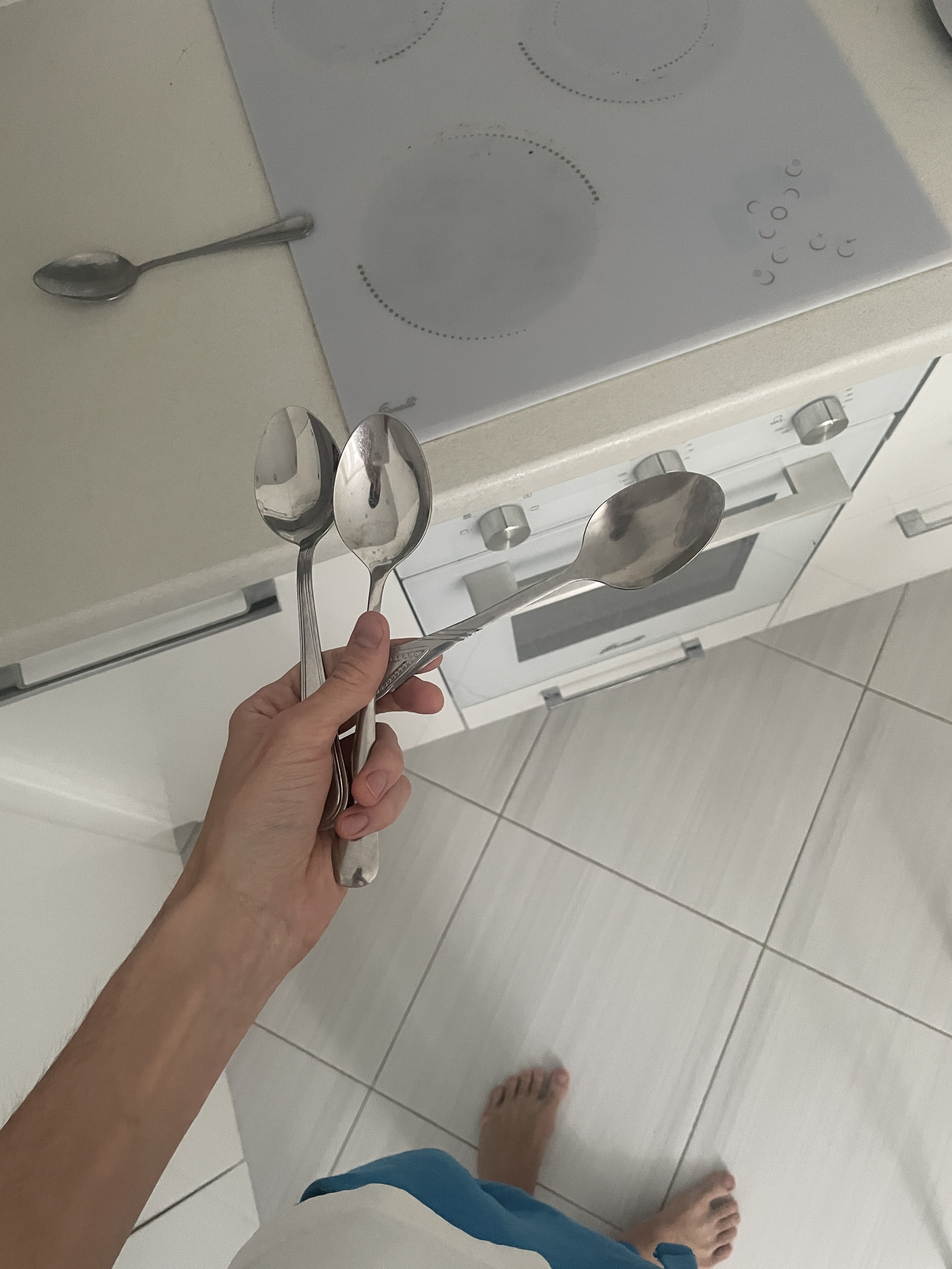spoon: (377, 471, 725, 699), (333, 413, 432, 888), (254, 406, 348, 833), (34, 214, 314, 301)
